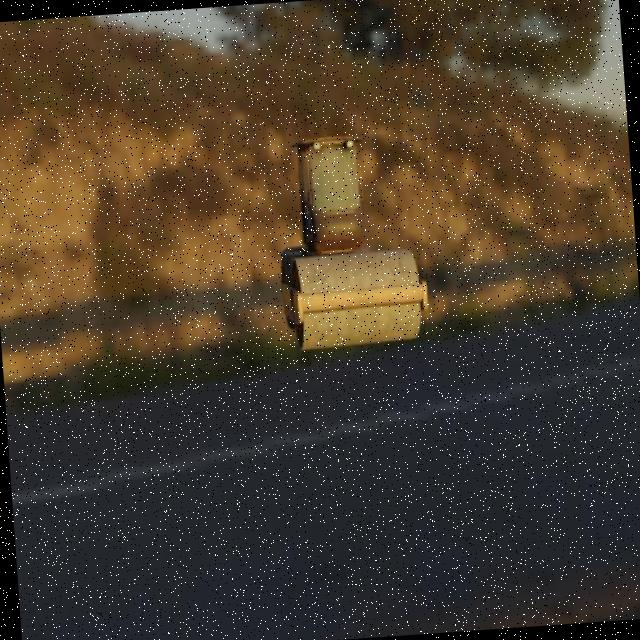Roller: (270, 128, 430, 350)
